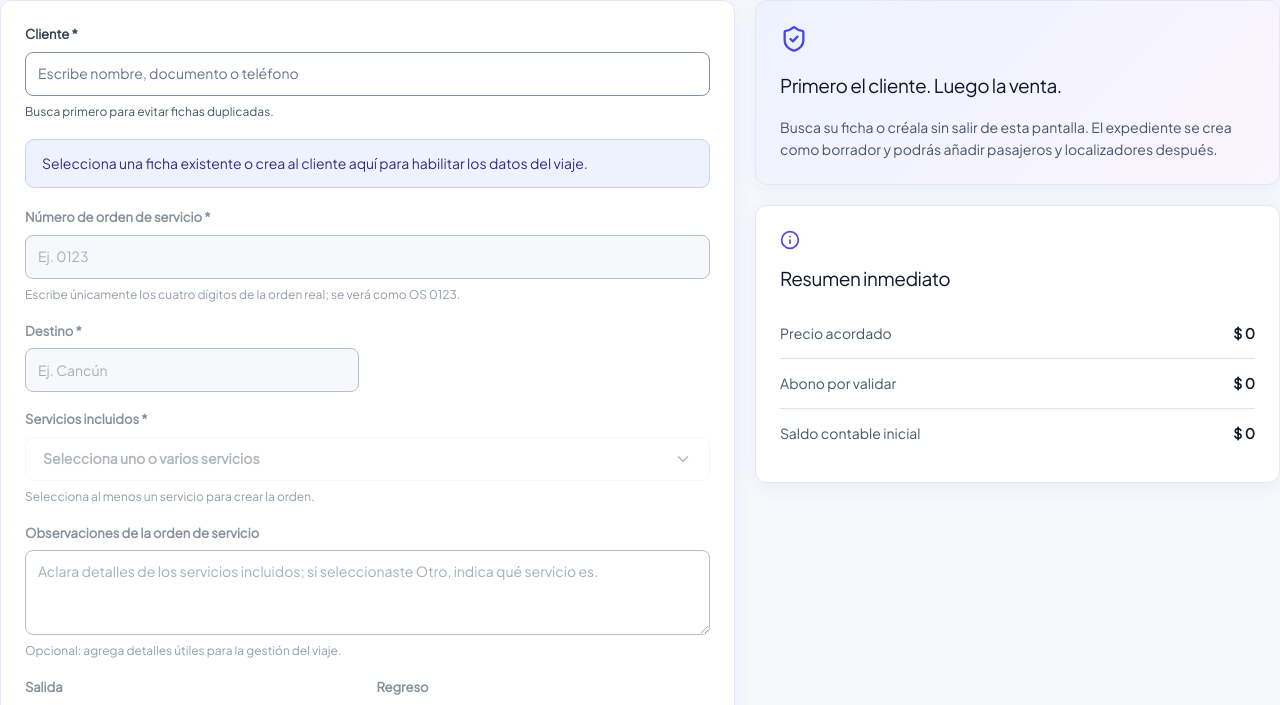
Test: separa un fallo de búsqueda de un cliente inexistente
The image size is (1280, 705).
Type "No disponible" into the dropdown labelled "Cliente *" at (368, 74), box [25,52,710,96]
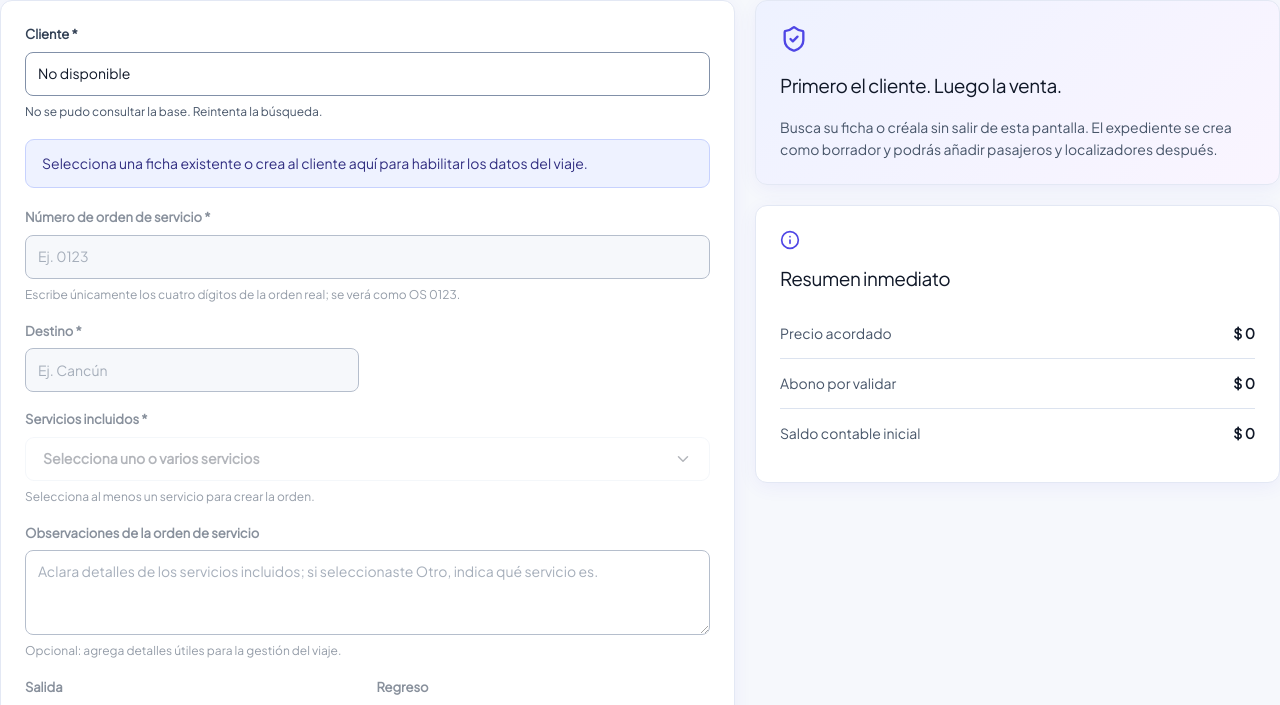
Expected: the text "No se pudo consultar la base. Reintenta la búsqueda." is shown, [25,104,322,118]
